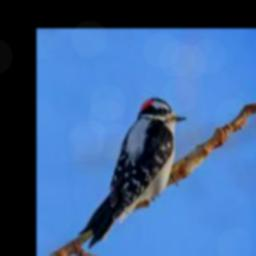Woodpecker: (79, 98, 187, 248)
